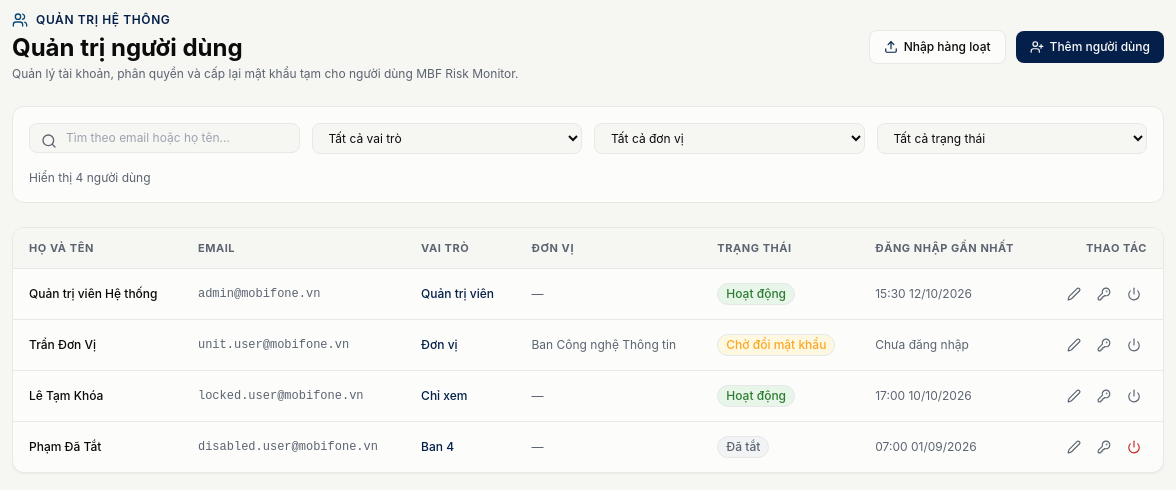
Test: UsersView › filters users by role and updates URL
The width and height of the screenshot is (1176, 490).
Select "Quản trị viên" in the 1st dropdown named "Lọc theo vai trò" at (447, 138), box top-left (312, 123), bottom-right (582, 154)
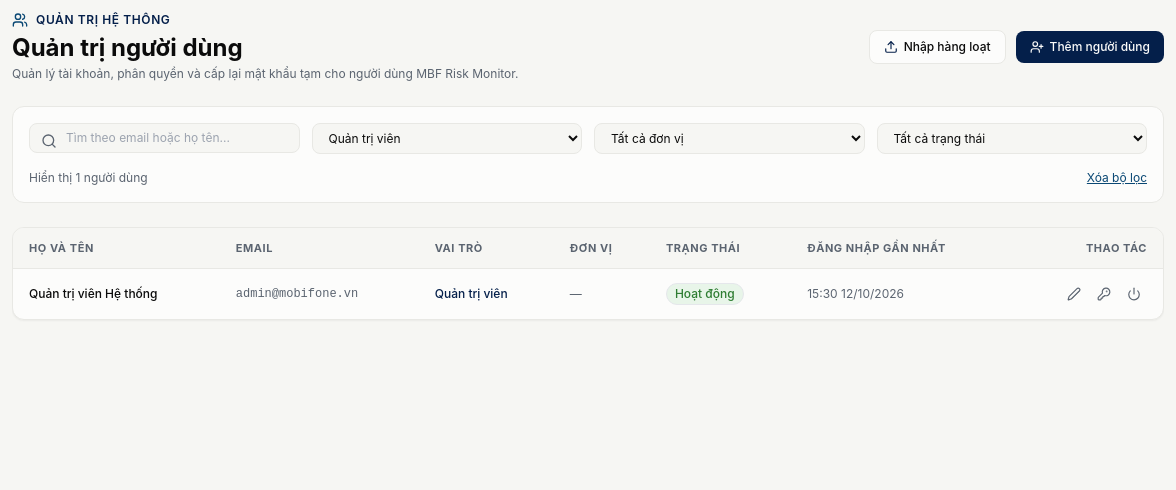
Expected: the text "Quản trị viên Hệ thống" is shown, top-left (13, 268), bottom-right (220, 319)
Now the text "Trần Đơn Vị" is gone
